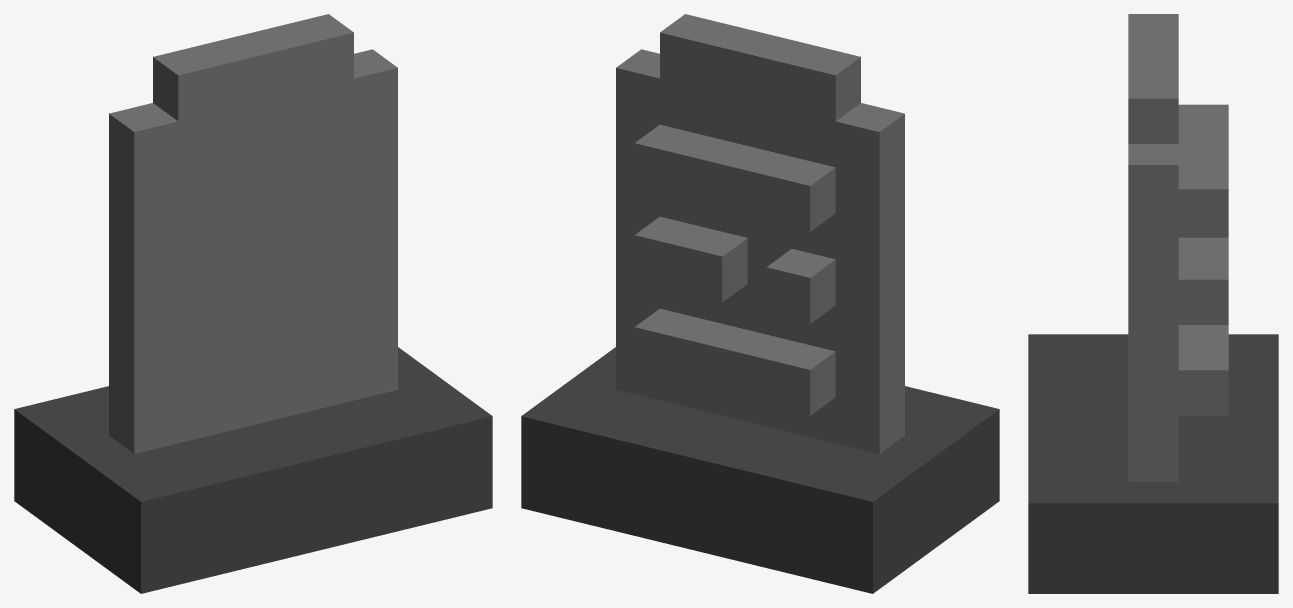
File: obj_grave3.fbx
3 views of the same model, side by side, from view 1: azimuth 30°, elevation 25°; view 2: azimuth 150°, elevation 25°; view 3: azimuth 270°, elevation 25° (orthographic).
Visible parts, largest first — view 1: obj_grave3; view 2: obj_grave3; view 3: obj_grave3.
Part boxes in pixels (x1=…): obj_grave3: x1=14, y1=14, x2=492, y2=593; obj_grave3: x1=521, y1=14, x2=999, y2=593; obj_grave3: x1=1028, y1=14, x2=1278, y2=593.
Bounding box in the file's own units: 0.8 × 0.5 × 1.
1 material, 1 textured.
